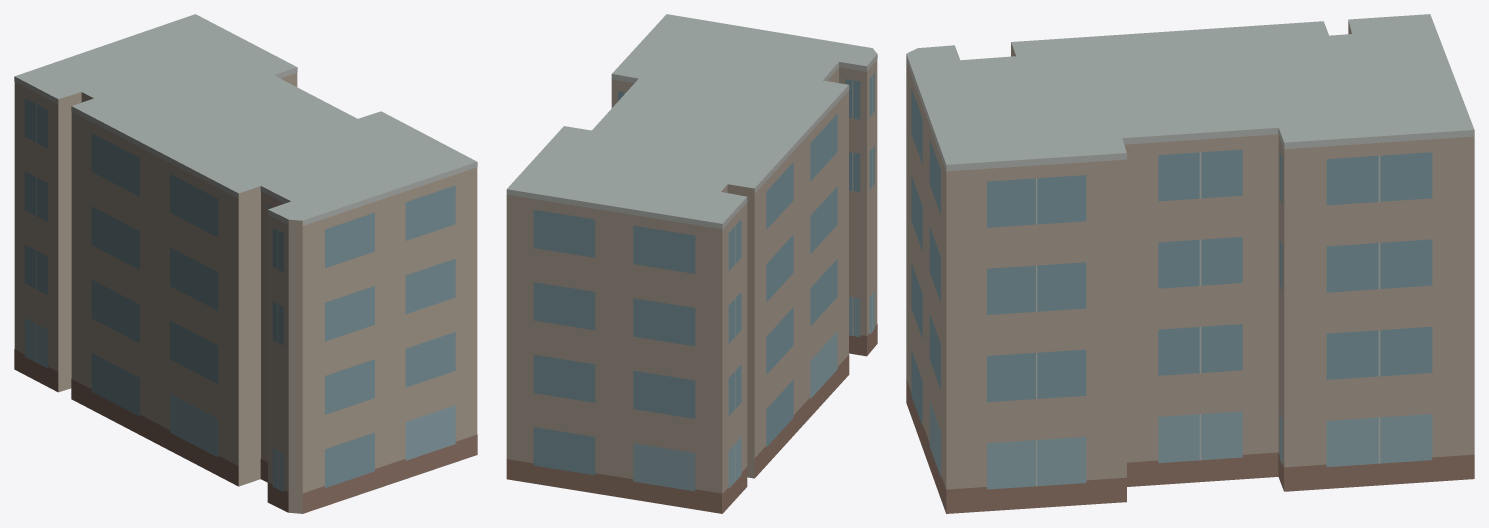
The model's file is survey-upis-32705910.glb.
The picture shows the model from 3 angles, left to right: view 1: azimuth 30°, elevation 25°; view 2: azimuth 150°, elevation 25°; view 3: azimuth 270°, elevation 25°; orthographic projection. The views are drawn at different scales.
Visible parts, largest first — view 1: survey-upis-32705910.tmp; view 2: survey-upis-32705910.tmp; view 3: survey-upis-32705910.tmp.
Part boxes in pixels (x1,y1,x2,y2): survey-upis-32705910.tmp: [14, 14, 477, 513]; survey-upis-32705910.tmp: [506, 14, 877, 513]; survey-upis-32705910.tmp: [906, 14, 1474, 513].
Size of the model in its own units: 12.16 by 13.1 by 19.34.
